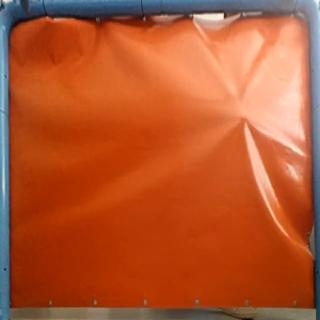Hit-hRxx: (239, 112, 251, 121)
